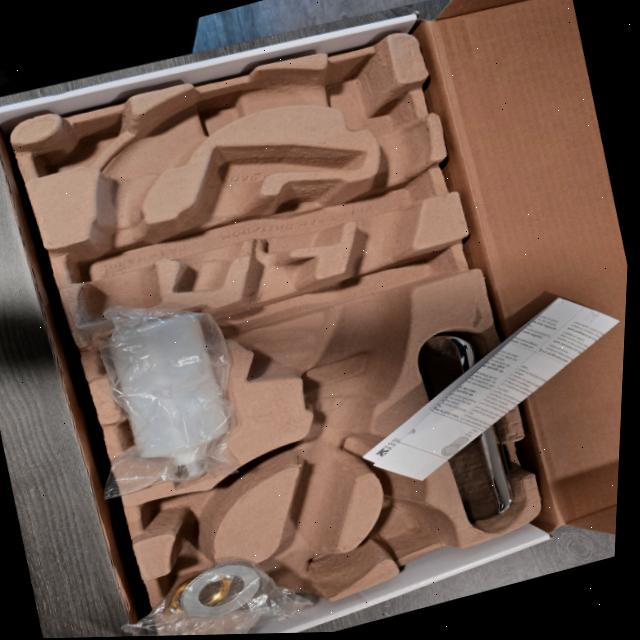1m: (78, 70, 430, 617)
2m: (172, 146, 359, 290)
3: (101, 308, 232, 481)
4o: (421, 332, 513, 518)
5m: (375, 503, 441, 552)
6: (121, 555, 317, 636)
7m: (139, 468, 259, 551)
8: (359, 294, 619, 481)
